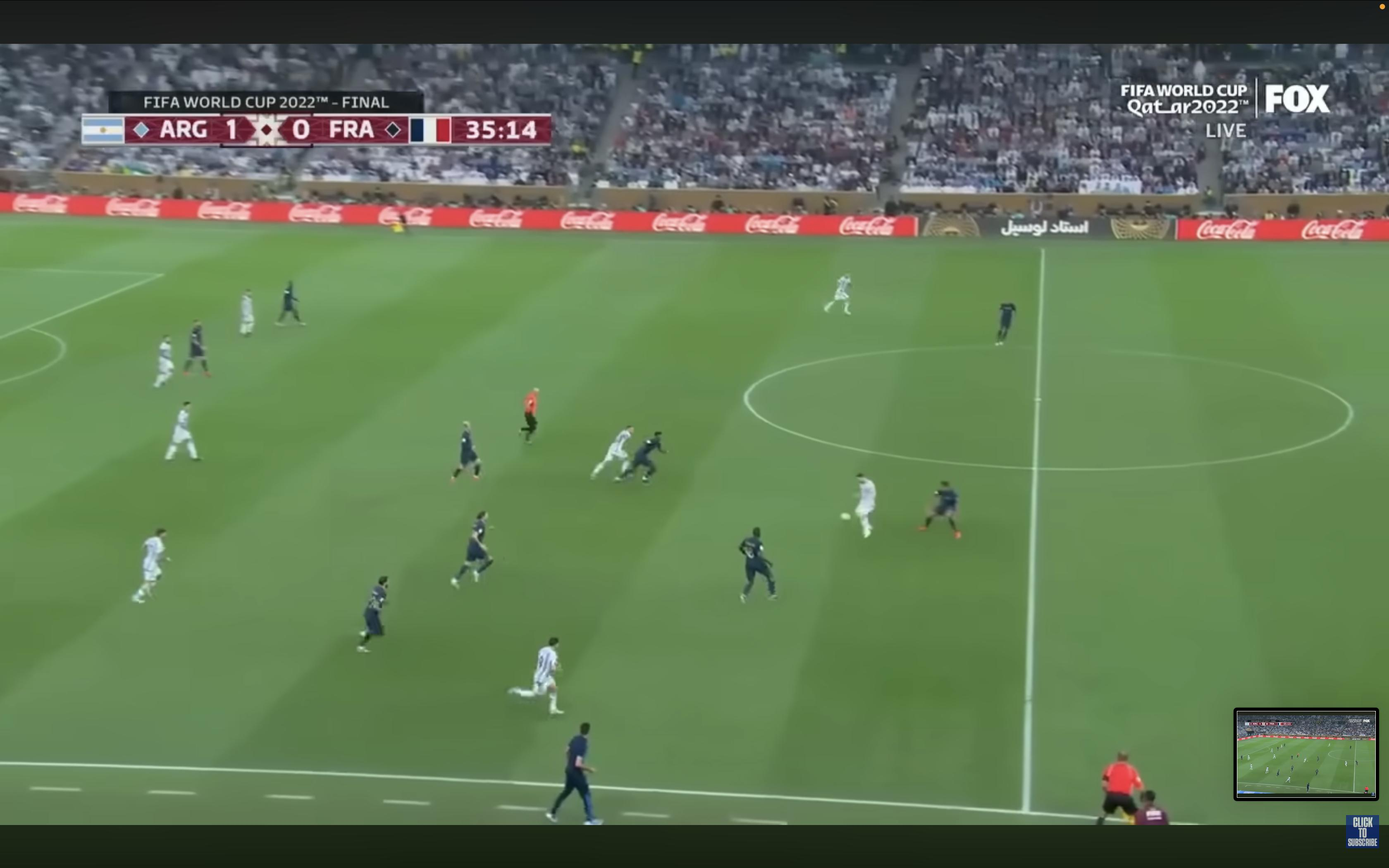ball: (840, 513, 851, 521)
player: (546, 723, 602, 825), (508, 637, 563, 715), (451, 510, 494, 587), (739, 527, 776, 602), (132, 527, 166, 603), (616, 431, 664, 483), (357, 576, 389, 653), (918, 481, 961, 538), (591, 426, 634, 479), (165, 401, 200, 461), (451, 422, 482, 483), (852, 473, 876, 538), (183, 321, 210, 377), (276, 281, 306, 326), (824, 274, 851, 315), (153, 335, 174, 387), (995, 302, 1016, 346), (239, 289, 255, 337)
referee: (1096, 752, 1143, 825), (520, 388, 539, 444)
